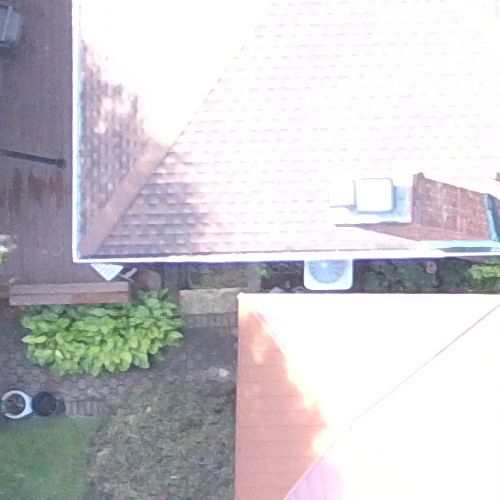air conditioner: (294, 248, 369, 291)
container: (30, 386, 68, 426), (1, 385, 35, 423)
